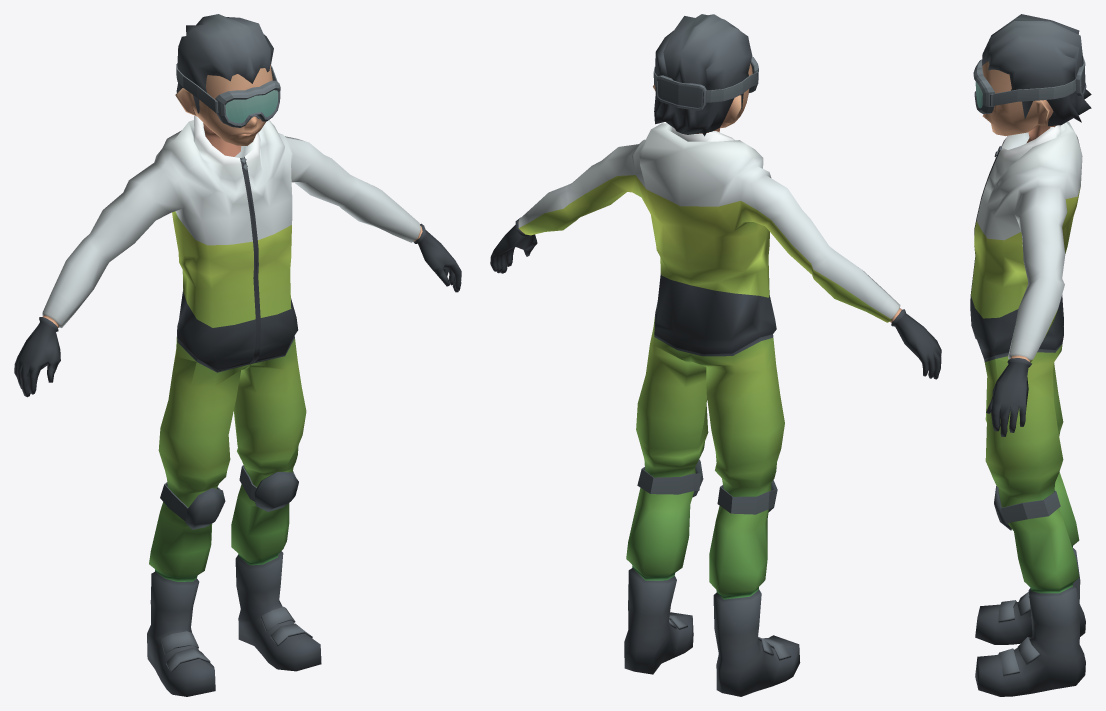
File: skier_low_poly_character.obj
The picture shows the model from 3 angles, left to right: view 1: azimuth 30°, elevation 25°; view 2: azimuth 150°, elevation 25°; view 3: azimuth 270°, elevation 25°; orthographic projection.
Visible parts, largest first — view 1: ski_man_gradient_0; view 2: ski_man_gradient_0; view 3: ski_man_gradient_0.
Boxes of the visible parts, x1,y1,x2,y2 form: ski_man_gradient_0: (14,14,461,696); ski_man_gradient_0: (490,14,941,696); ski_man_gradient_0: (970,14,1091,696).
Size of the model in its own units: 0.7214 by 1.01 by 0.1742.
Materials: 1 (1 with a texture image).
